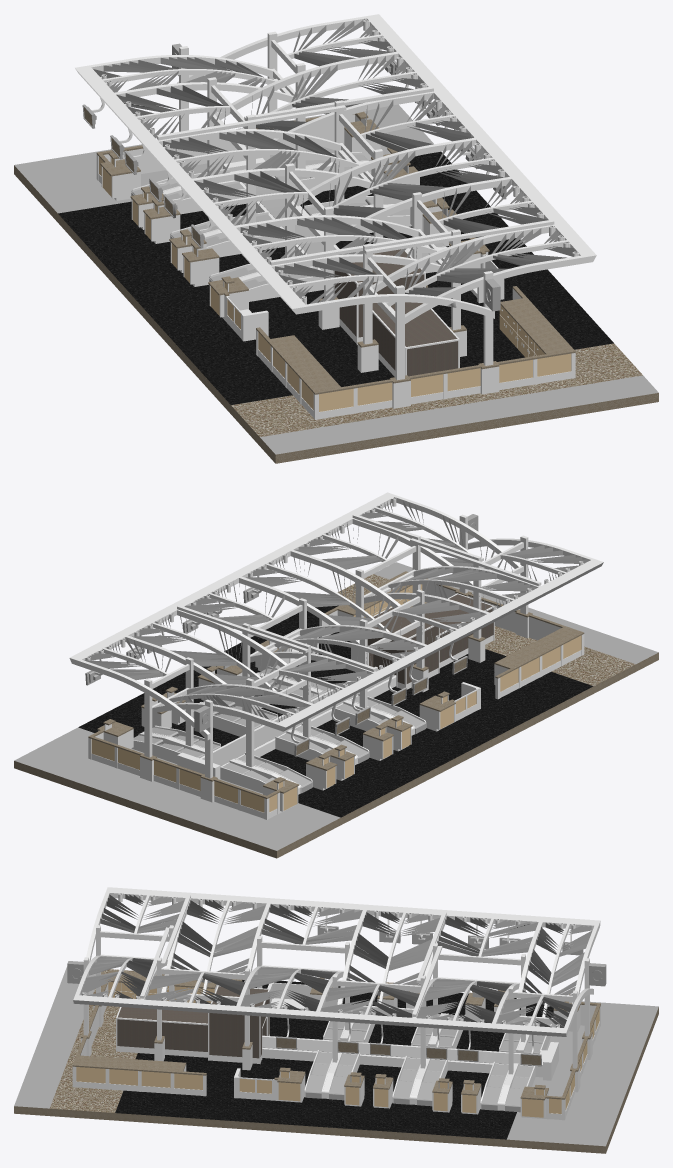
Rendered from terminal_hall.glb.
3 views of the same model, one above another, from view 1: azimuth 30°, elevation 25°; view 2: azimuth 150°, elevation 25°; view 3: azimuth 270°, elevation 25° (orthographic). The views are drawn at different scales.
Visible parts, largest first — view 1: terminal_hall; view 2: terminal_hall; view 3: terminal_hall.
Part boxes in pixels (x1,y1,x2,y2): terminal_hall: [14, 14, 658, 463]; terminal_hall: [14, 492, 658, 858]; terminal_hall: [14, 887, 658, 1153].
Bounding box in the file's own units: 51.41 × 14.54 × 77.85.
9 materials, 3 textured.
